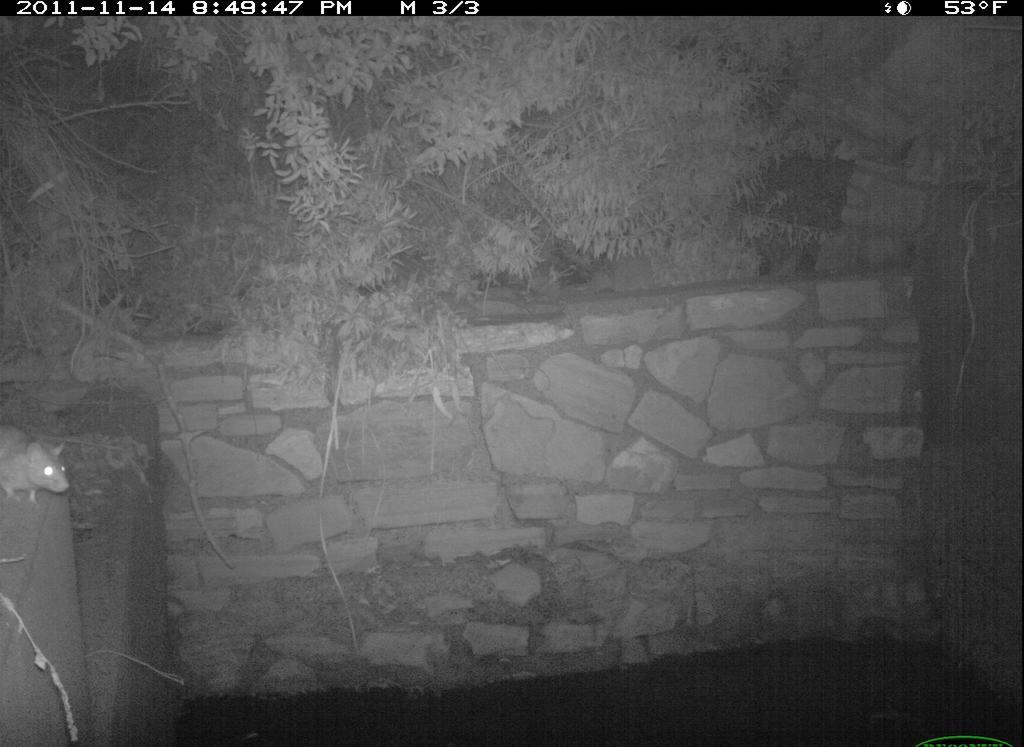rodent: (1, 422, 84, 527)
